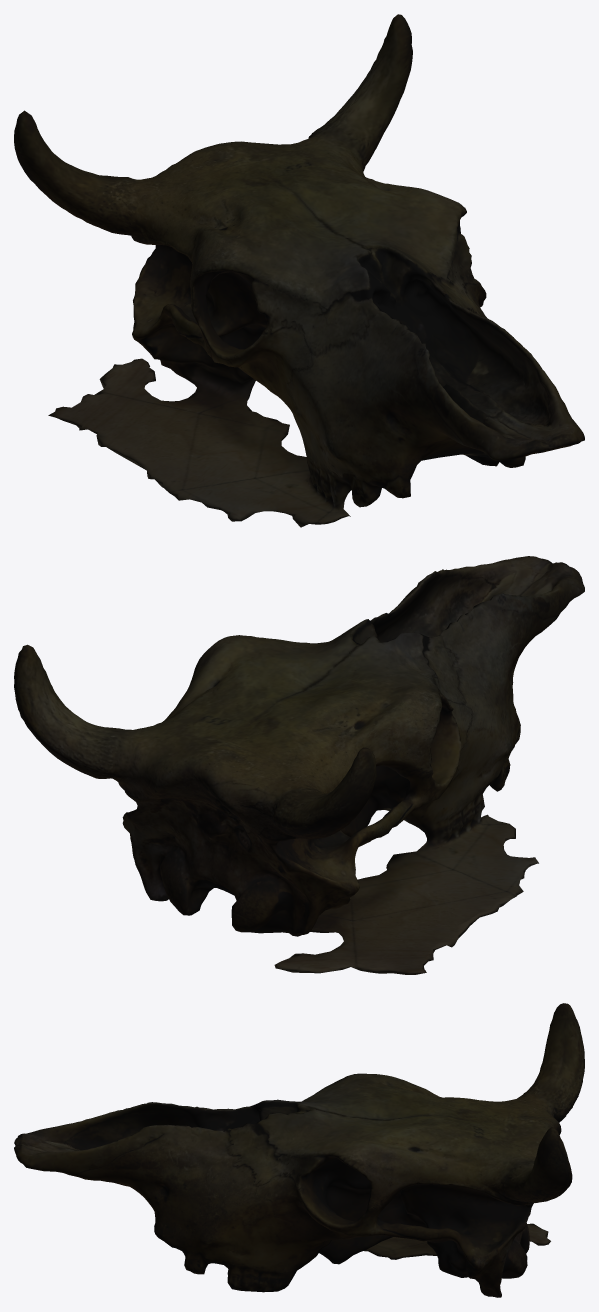
File: model_obj-Velikorus.glb
The picture shows the model from 3 angles, top to bottom: view 1: azimuth 30°, elevation 25°; view 2: azimuth 150°, elevation 25°; view 3: azimuth 270°, elevation 25°; orthographic projection. The views are drawn at different scales.
Visible parts, largest first — view 1: Node1; view 2: Node1; view 3: Node1.
Boxes of the visible parts, <box> form: Node1: <box>14,14,584,527</box>; Node1: <box>14,556,584,974</box>; Node1: <box>14,1003,584,1297</box>.
Bounding box in the file's own units: 0.2976 × 0.2057 × 0.4869.
1 material, 1 textured.
